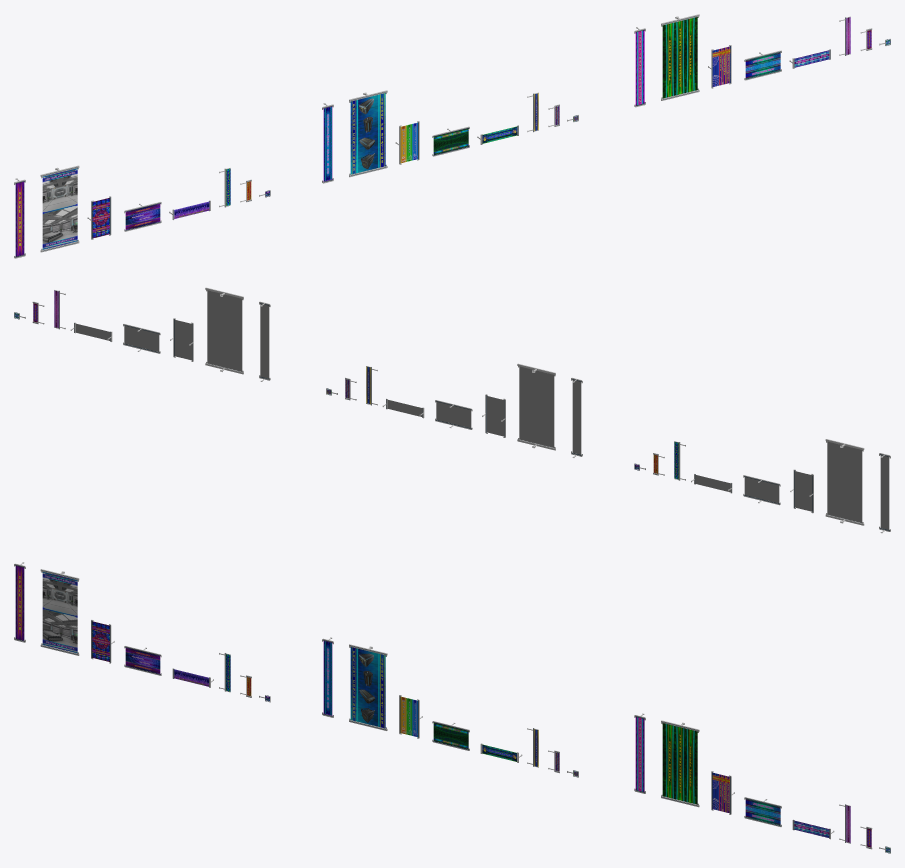
The model's file is Ads_Templates_fbx.FBX.
3 views of the same model, one above another, from view 1: azimuth 30°, elevation 25°; view 2: azimuth 150°, elevation 25°; view 3: azimuth 330°, elevation 25° (orthographic).
Visible parts, largest first — view 1: Ad_B_Hologram_V1_, Ad_B_Hologram_V2_, Ad_B_Hologram_V3_, Ad_A_Hologram_V3_, Ad_A_Hologram_V2_, Ad_A_Hologram_V1_, Ad_C_Hologram_V3_, Ad_D_Hologram_V2_, Ad_D_Hologram_V1_, Ad_D_Hologram_V3_, Ad_C_Hologram_V2_, Ad_C_Hologram_V1_; view 2: Ad_B_Hologram_V3_, Ad_B_Hologram_V2_, Ad_B_Hologram_V1_, Ad_A_Hologram_V1_, Ad_A_Hologram_V2_, Ad_A_Hologram_V3_, Ad_C_Hologram_V3_, Ad_D_Hologram_V1_, Ad_D_Hologram_V2_, Ad_D_Hologram_V3_, Ad_C_Hologram_V1_, Ad_C_Hologram_V2_; view 3: Ad_B_Hologram_V2_, Ad_B_Hologram_V1_, Ad_B_Hologram_V3_, Ad_A_Hologram_V1_, Ad_A_Hologram_V2_, Ad_A_Hologram_V3_, Ad_D_Hologram_V2_, Ad_D_Hologram_V1_, Ad_D_Hologram_V3_, Ad_C_Hologram_V1_, Ad_C_Hologram_V2_, Ad_C_Hologram_V3_.
Boxes of the visible parts, box(x1,y1,x2,y2) form: Ad_B_Hologram_V1_: box(42, 168, 77, 249); Ad_B_Hologram_V2_: box(350, 93, 385, 174); Ad_B_Hologram_V3_: box(662, 17, 697, 98); Ad_A_Hologram_V3_: box(635, 30, 644, 105); Ad_A_Hologram_V2_: box(323, 106, 332, 181); Ad_A_Hologram_V1_: box(15, 182, 24, 256); Ad_C_Hologram_V3_: box(712, 46, 730, 86); Ad_D_Hologram_V2_: box(433, 128, 468, 154); Ad_D_Hologram_V1_: box(125, 203, 160, 229); Ad_D_Hologram_V3_: box(745, 52, 780, 78); Ad_C_Hologram_V2_: box(400, 122, 417, 163); Ad_C_Hologram_V1_: box(92, 198, 109, 238); Ad_B_Hologram_V3_: box(207, 290, 242, 371); Ad_B_Hologram_V2_: box(519, 366, 554, 447); Ad_B_Hologram_V1_: box(827, 441, 862, 522); Ad_A_Hologram_V1_: box(880, 455, 889, 529); Ad_A_Hologram_V2_: box(572, 380, 581, 454); Ad_A_Hologram_V3_: box(260, 303, 269, 378); Ad_C_Hologram_V3_: box(174, 320, 192, 360); Ad_D_Hologram_V1_: box(744, 477, 779, 503); Ad_D_Hologram_V2_: box(436, 401, 471, 428); Ad_D_Hologram_V3_: box(124, 325, 159, 351); Ad_C_Hologram_V1_: box(795, 471, 812, 511); Ad_C_Hologram_V2_: box(487, 396, 504, 436); Ad_B_Hologram_V2_: box(350, 647, 385, 728); Ad_B_Hologram_V1_: box(42, 572, 77, 653); Ad_B_Hologram_V3_: box(662, 723, 697, 804); Ad_A_Hologram_V1_: box(15, 565, 24, 640); Ad_A_Hologram_V2_: box(323, 641, 332, 715); Ad_A_Hologram_V3_: box(635, 717, 644, 791); Ad_D_Hologram_V2_: box(433, 723, 468, 749); Ad_D_Hologram_V1_: box(125, 647, 160, 673); Ad_D_Hologram_V3_: box(745, 799, 780, 825); Ad_C_Hologram_V1_: box(92, 621, 109, 661); Ad_C_Hologram_V2_: box(400, 696, 417, 737); Ad_C_Hologram_V3_: box(712, 773, 729, 813).
Bounding box in the file's own units: 102744 × 8659 × 774.
